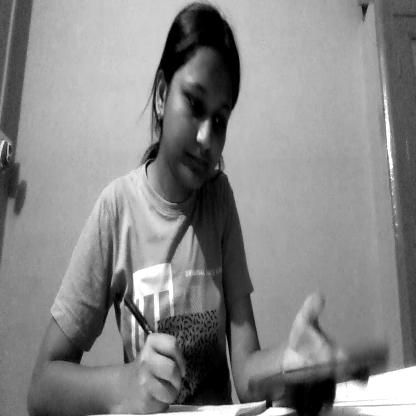Distracted: (149, 5, 246, 203)
